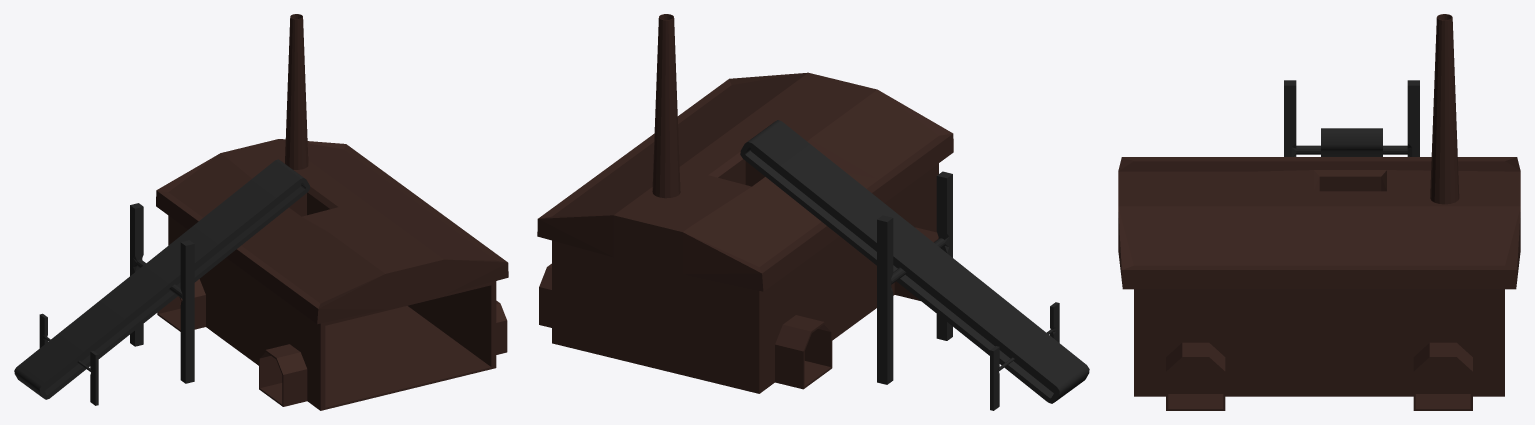
File: Metal Factory.fbx
3 renders of one model, left to right at view 1: azimuth 30°, elevation 25°; view 2: azimuth 150°, elevation 25°; view 3: azimuth 270°, elevation 25°, orthographic. The views are drawn at different scales.
Parts seen in each view (by area): view 1: Metal Factory, Conveyer Belt; view 2: Metal Factory, Conveyer Belt; view 3: Metal Factory, Conveyer Belt.
Boxes of the visible parts, left/top/right/bottom form: Metal Factory: left=156, top=14, right=508, bottom=410; Conveyer Belt: left=14, top=159, right=309, bottom=405; Metal Factory: left=537, top=14, right=953, bottom=393; Conveyer Belt: left=740, top=120, right=1089, bottom=410; Metal Factory: left=1118, top=14, right=1520, bottom=410; Conveyer Belt: left=1284, top=80, right=1419, bottom=156.
Bounding box in the file's own units: 920 × 600 × 651.
